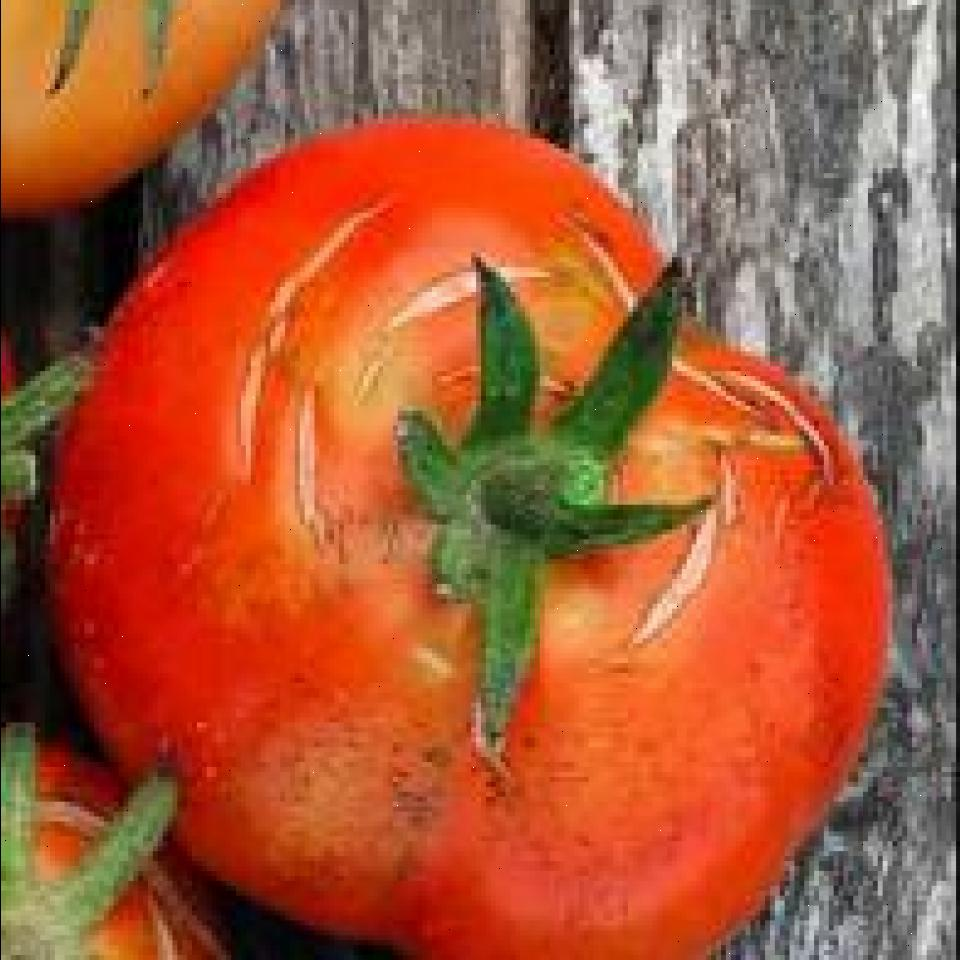Cracking: (178, 187, 459, 594), (606, 392, 840, 760), (470, 218, 762, 506), (336, 222, 566, 482)
